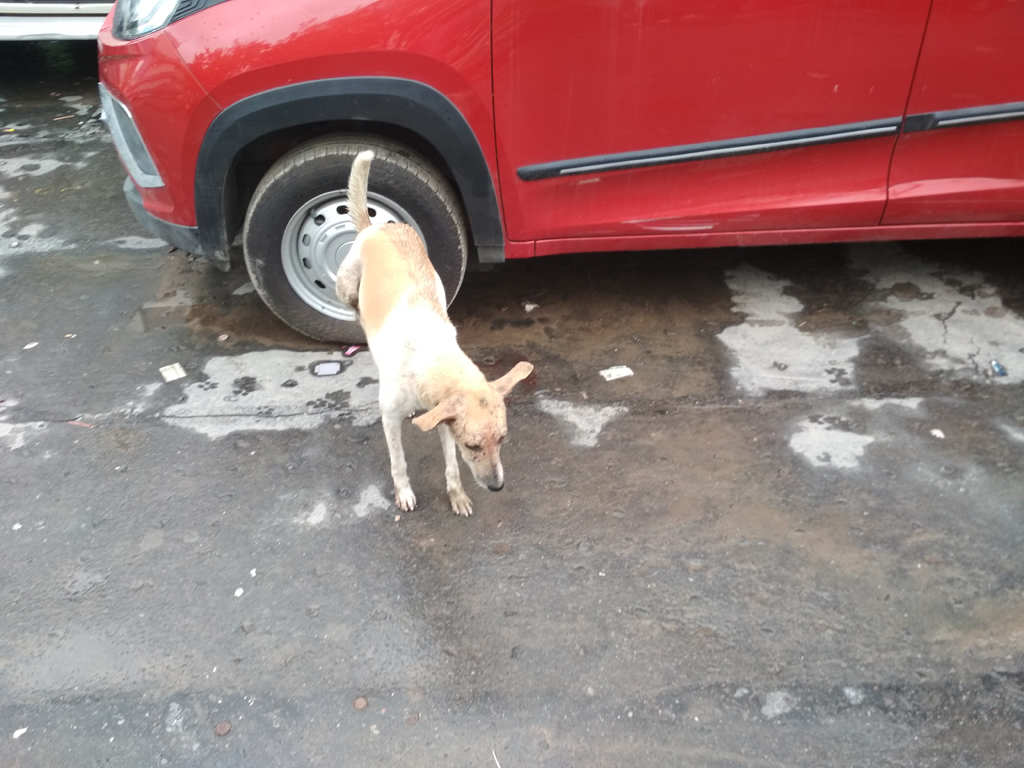dog: (336, 150, 533, 516)
